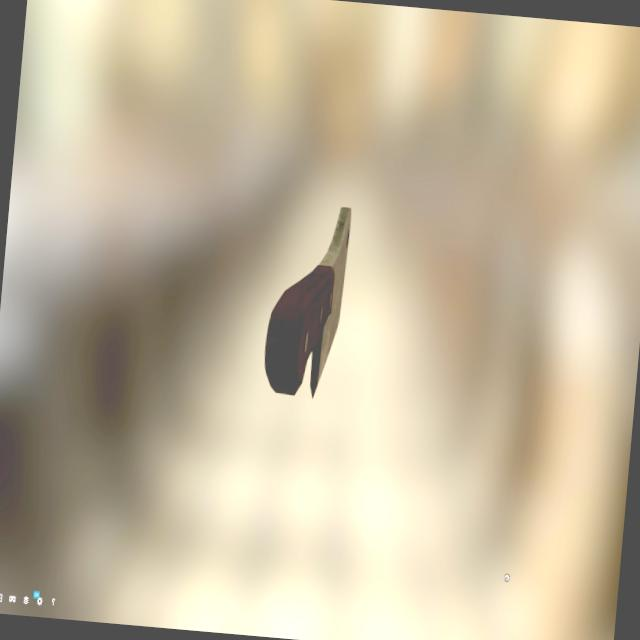cleaver: (262, 196, 352, 399)
